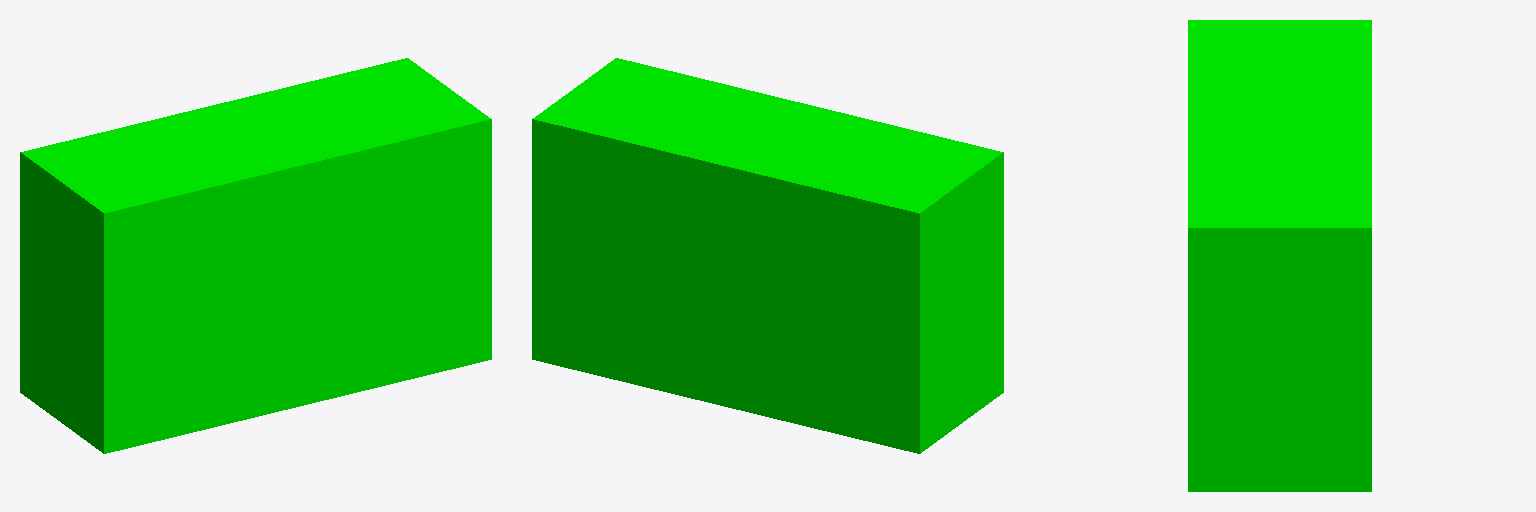
robot.urdf — box.urdf:
<?xml version="0.0" ?>
<robot name="box.urdf">
  <link name="baseLink">
    <contact>
      <lateral_friction value="0.5"/>
      <rolling_friction value="0.0"/>
      <contact_cfm value="0.0"/>
      <contact_erp value="1.0"/>
    </contact>
    <inertial>
      <origin rpy="0 0 0" xyz="0 0 0"/>
       <mass value=".01"/>
       <inertia ixx="1" ixy="0" ixz="0" iyy="1" iyz="0" izz="1"/>
    </inertial>
    <visual>
      <origin rpy="0 0 0" xyz="0 0 0"/>
      <geometry>
				<mesh filename="box.obj" scale="0.16 0.06 0.095"/>
      </geometry>
       <material name="white">
        <color rgba="0 1 0 1"/>
      </material>
    </visual>
    <collision>
      <origin rpy="0 0 0" xyz="0 0 0"/>
      <geometry>
	 	<box size="0.16 0.06 0.095"/>
      </geometry>
    </collision>
  </link>
</robot>

--- Render facts (derived) ---
Views: 3 orthographic renders of the robot side by side, from view 1: azimuth 30°, elevation 25°; view 2: azimuth 150°, elevation 25°; view 3: azimuth 270°, elevation 25°.
Robot: box.urdf — 1 links, 0 joints (none); root link baseLink; default pose: all joints at 0.
Links seen in each view (by area): view 1: baseLink; view 2: baseLink; view 3: baseLink.
Link boxes in pixels (x1,y1,x2,y2): baseLink: [20, 58, 491, 453]; baseLink: [532, 58, 1003, 453]; baseLink: [1188, 20, 1371, 491].
Size in the robot's own frame: 0.16 by 0.06 by 0.095 metres.
Meshes: 1 distinct files referenced, 1 mesh visuals loaded (1 OBJ).